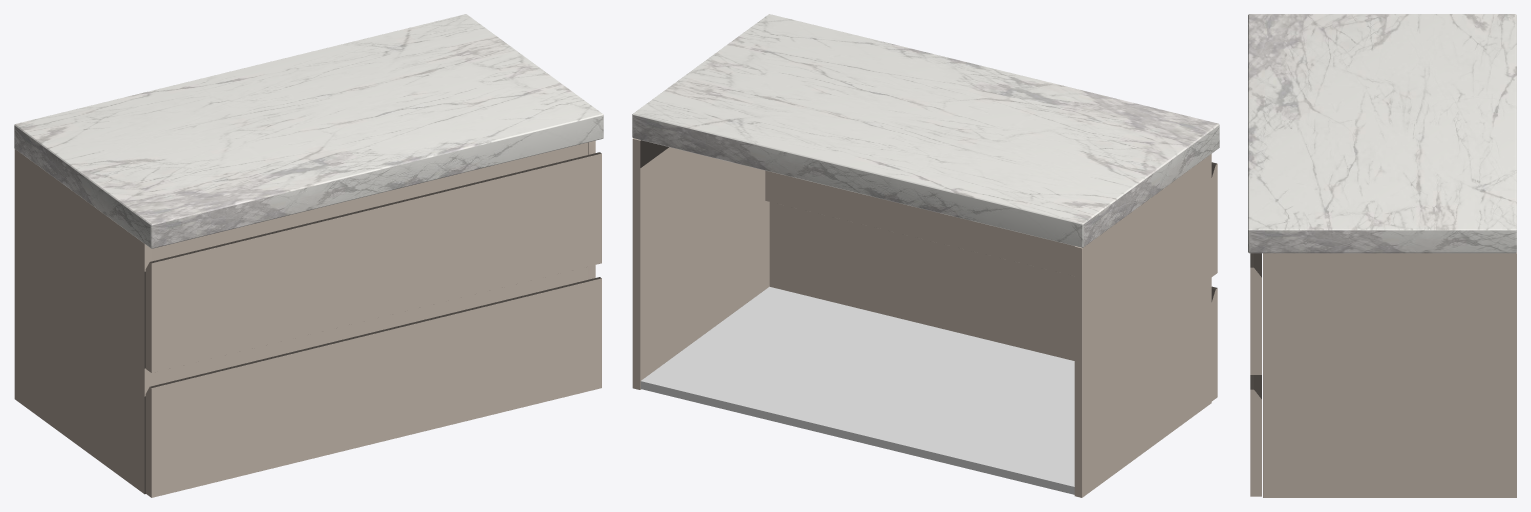
The picture shows the model from 3 angles, left to right: view 1: azimuth 30°, elevation 25°; view 2: azimuth 150°, elevation 25°; view 3: azimuth 270°, elevation 25°; orthographic projection. The views are drawn at different scales.
Parts seen in each view (by area): view 1: VX04; view 2: VX04; view 3: VX04.
Part boxes in pixels (<box>): VX04: <box>14,14,603,497</box>; VX04: <box>632,14,1219,497</box>; VX04: <box>1248,14,1516,497</box>.
Size of the model in its own units: 0.95 by 0.552 by 0.5.
Materials: 4 (1 with a texture image).
